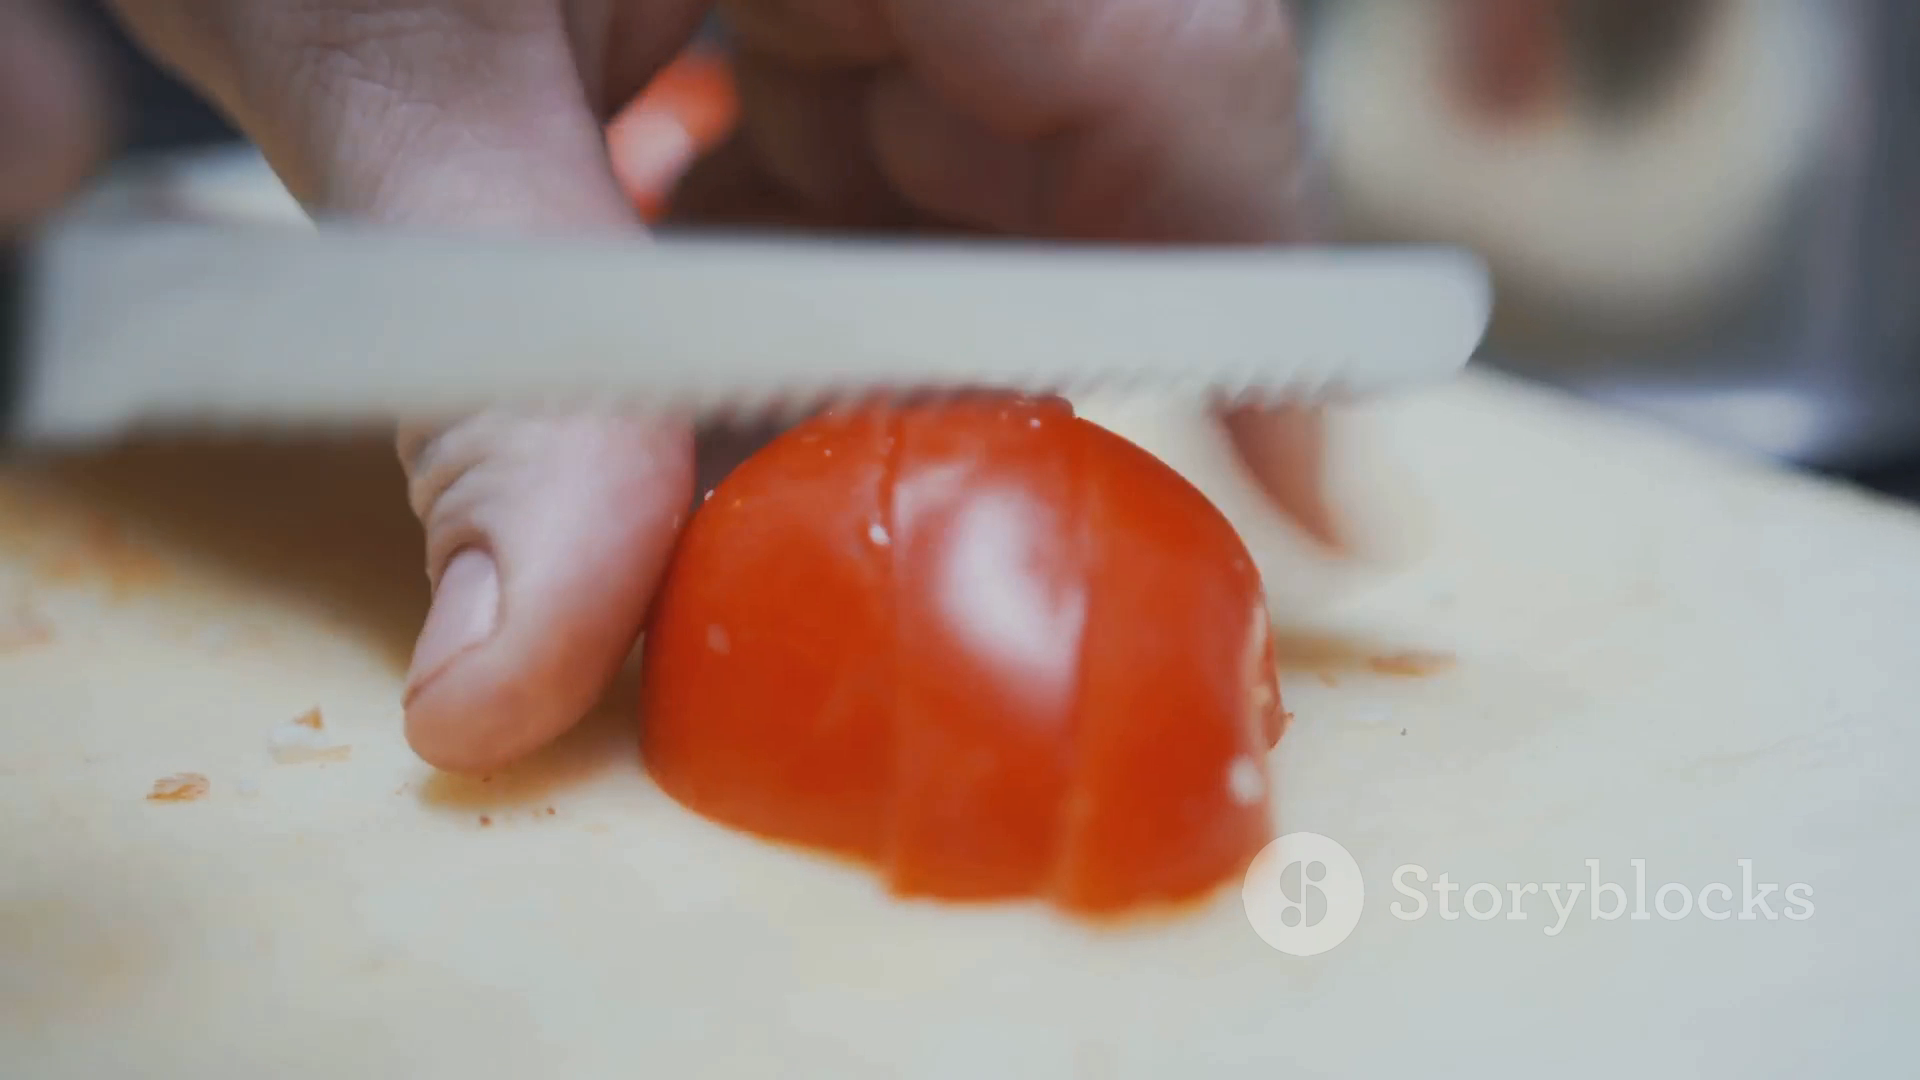cortante: (0, 211, 1494, 447)
